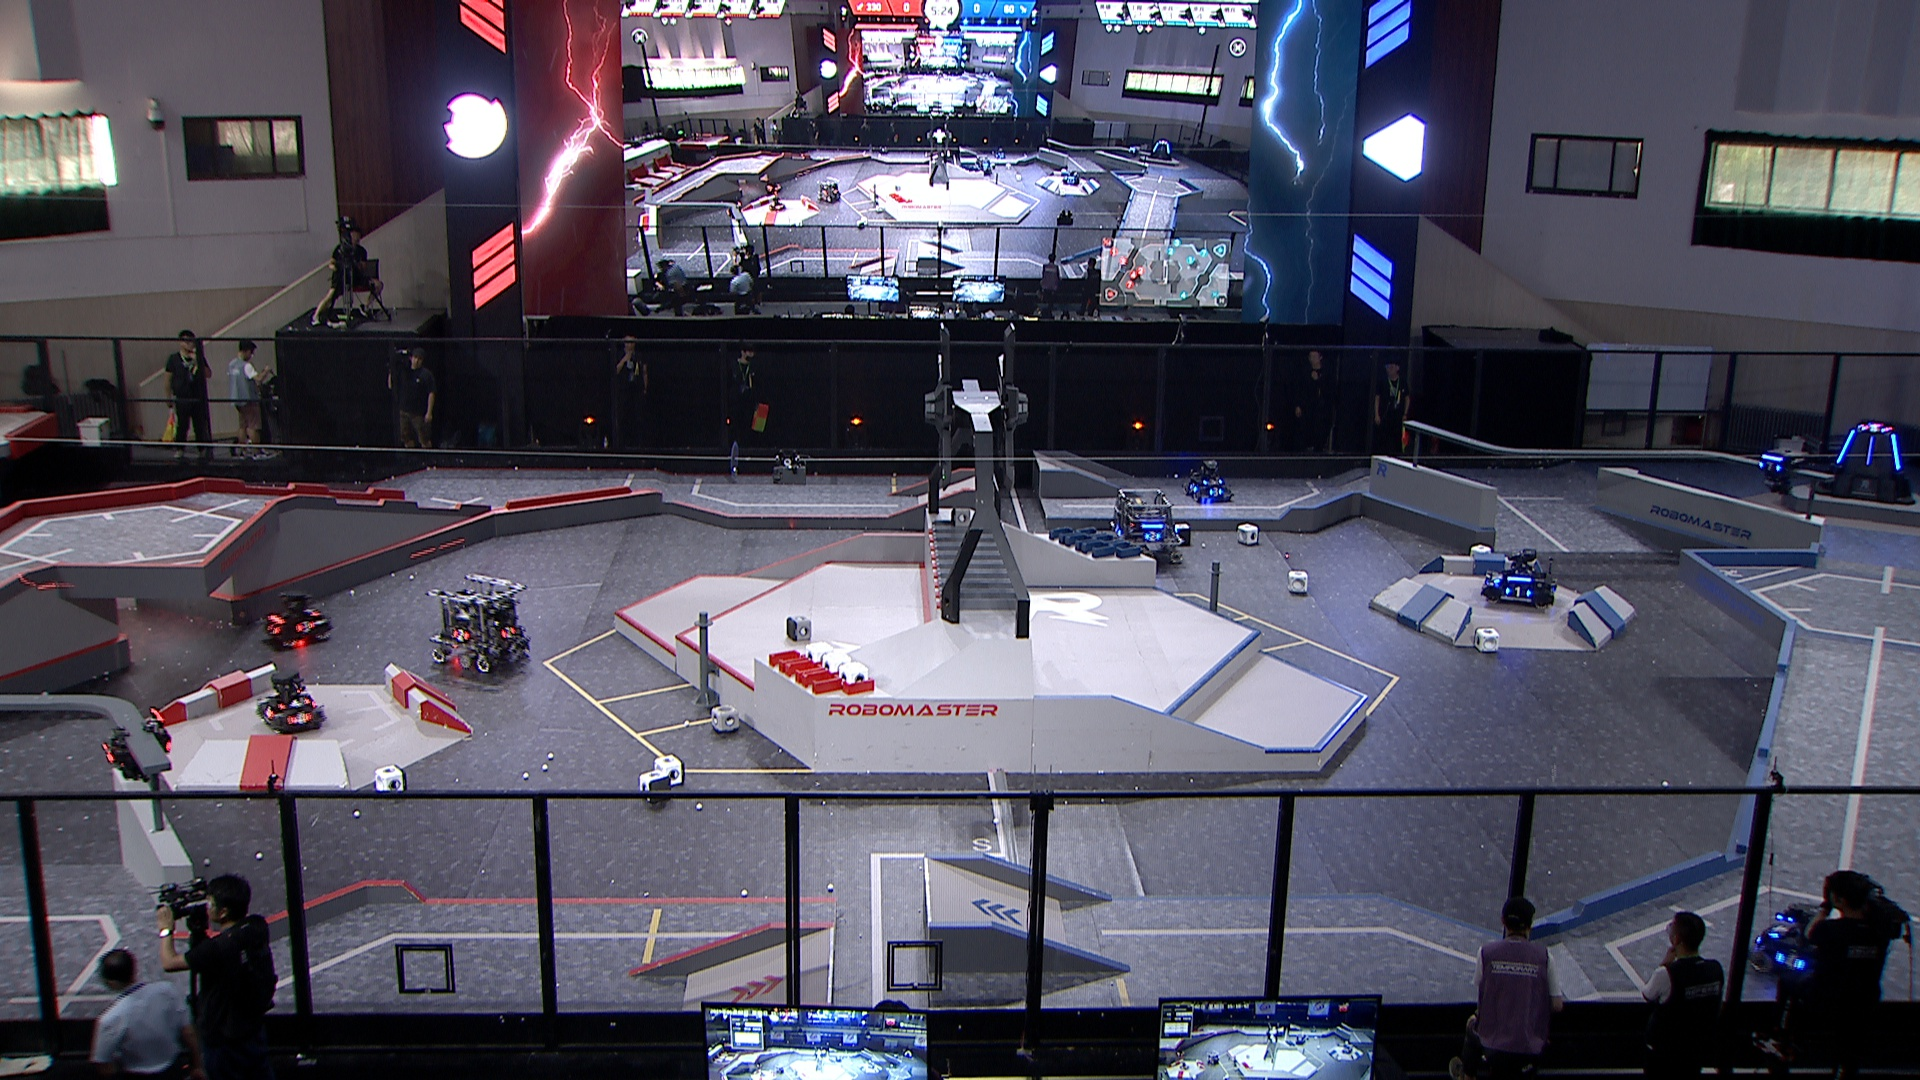armor: (1836, 427, 1855, 465), (1768, 918, 1793, 942), (1888, 433, 1903, 472), (276, 694, 311, 709), (1774, 953, 1807, 969), (285, 709, 313, 727), (1505, 584, 1534, 599), (1756, 460, 1784, 473), (98, 742, 116, 761), (1865, 434, 1875, 465), (498, 622, 517, 640), (451, 628, 472, 642), (295, 618, 316, 632), (1489, 570, 1505, 585), (264, 621, 281, 636), (301, 605, 320, 617), (1201, 476, 1225, 485), (1143, 529, 1162, 541), (262, 705, 276, 719), (1209, 487, 1222, 498), (1112, 524, 1124, 537), (1185, 483, 1199, 493)
base: (1816, 422, 1917, 504)
car: (429, 571, 531, 673), (1742, 901, 1841, 986), (1102, 485, 1187, 564), (1482, 543, 1561, 615), (256, 669, 328, 732), (258, 589, 334, 647), (1178, 460, 1237, 502)
ignore: (818, 175, 844, 202), (1149, 138, 1176, 161), (1859, 423, 1890, 434)
watcher: (96, 704, 174, 787), (1754, 436, 1807, 498)
